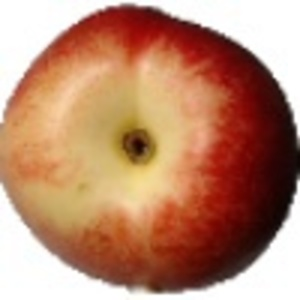nectarina: (1, 3, 300, 296)
